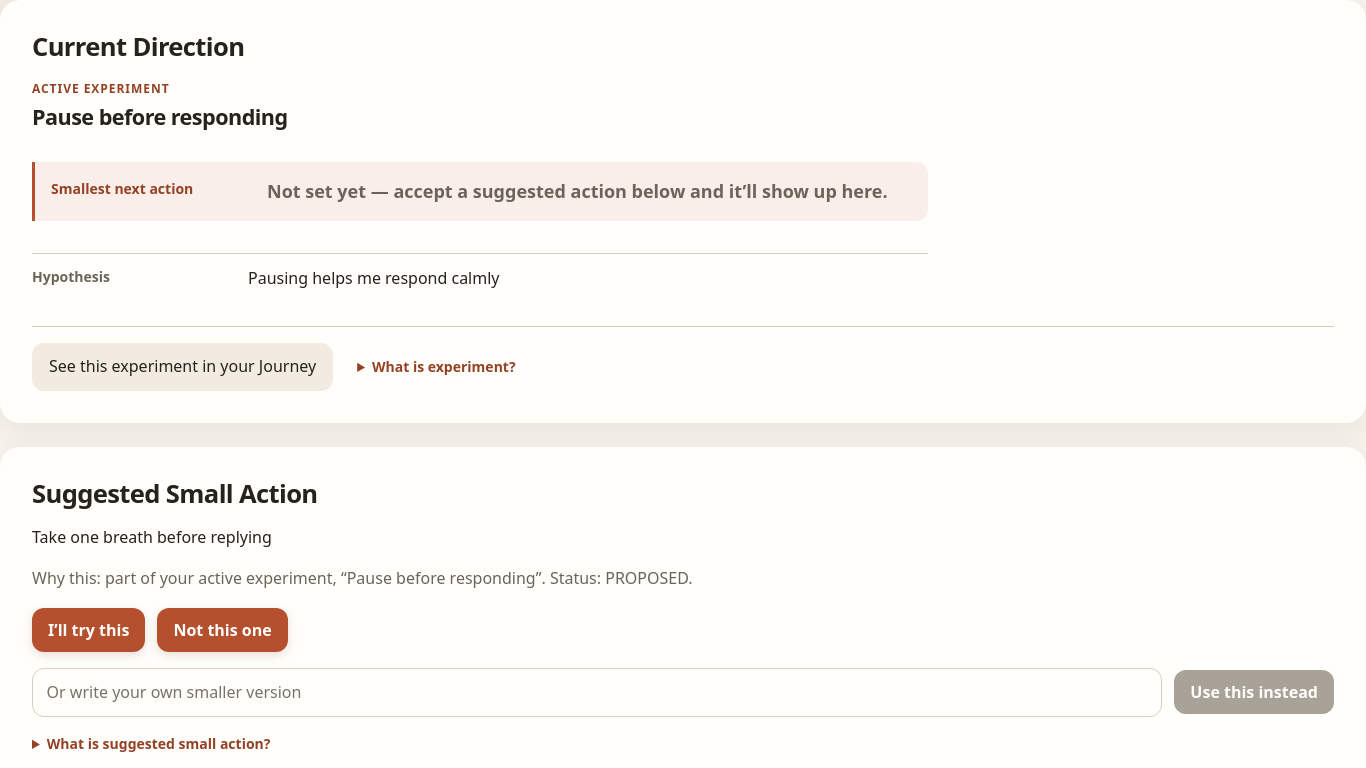
Test: TodayPage › shows the accepted small action as the experiment's next action, both on Today and via the Journey link
Expected: the text "Not set yet — accept a suggested action below" is shown, [267,179,888,203]
Click the button "I’ll try this".
click(89, 630)  # box [32,608,145,652]
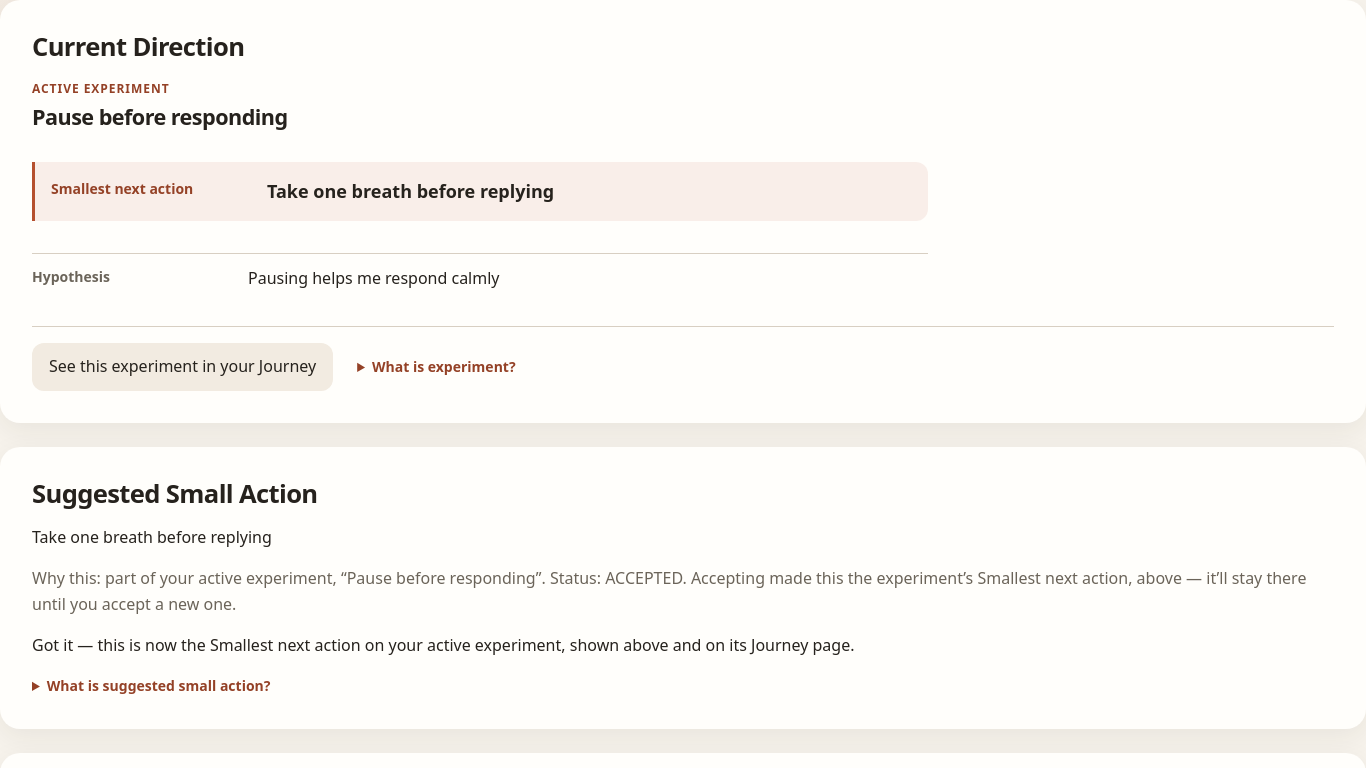
Result: the text "Smallest next action on your active experiment" is shown at [32,634,854,656]
Result: the text "Smallest next action" shows "Take one breath before replying" at [267,179,554,203]
